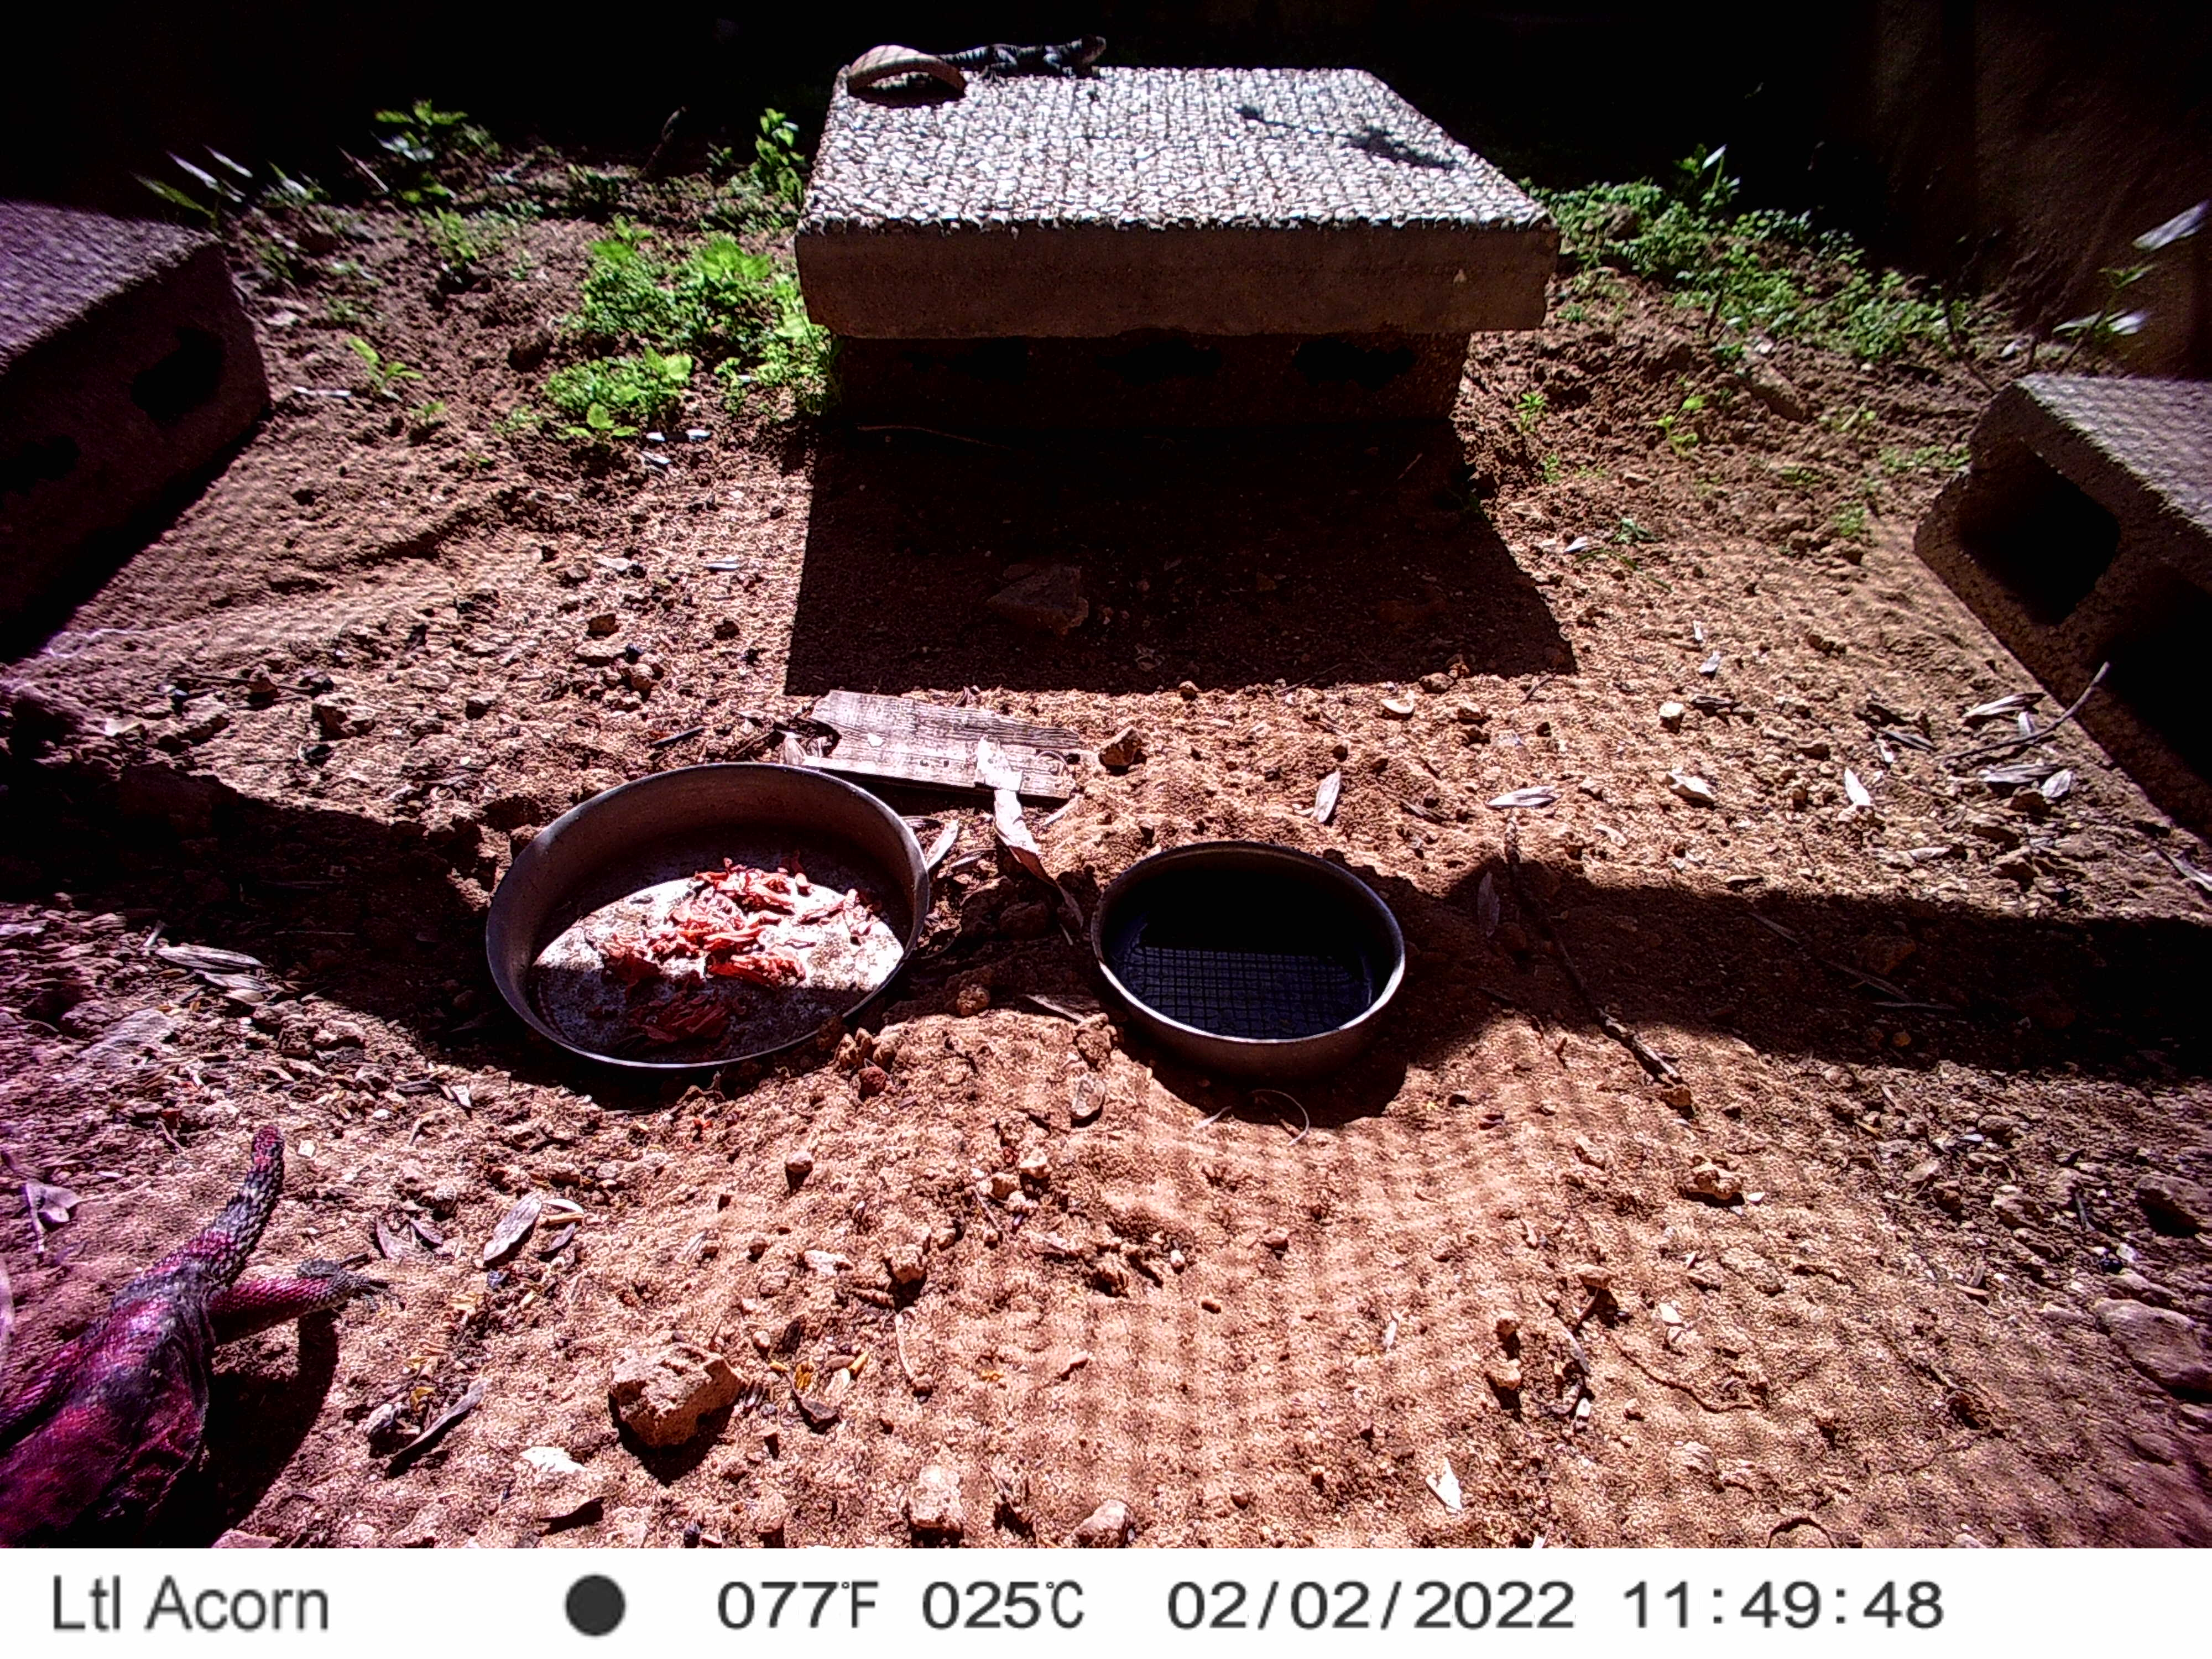lizard: (2, 1122, 394, 1547), (941, 30, 1113, 84)
